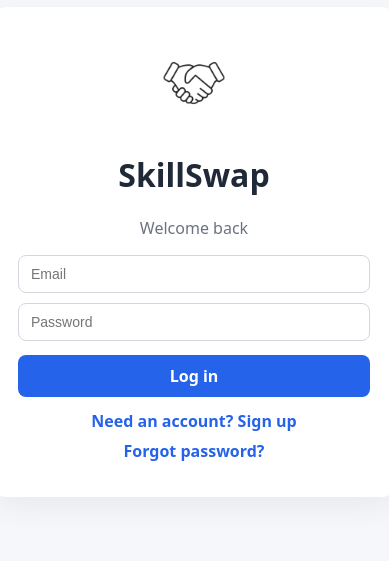
it: SkillSwap behavior tests › shows login validation messages
Click the button "Log in": click(194, 376) [18,355,370,397]
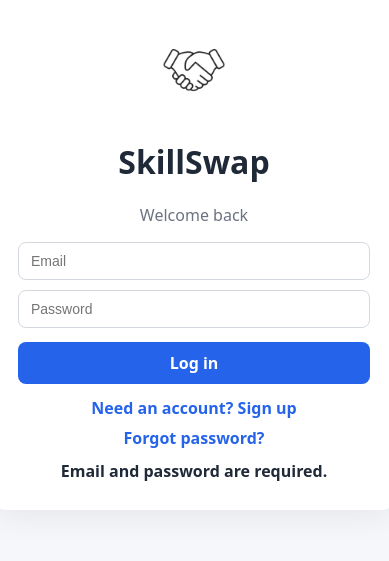
Expected: the text "Email and password are required." is shown, [61,460,327,482]
Click the button "Need an account? Sign up": click(194, 408) [18,396,370,420]
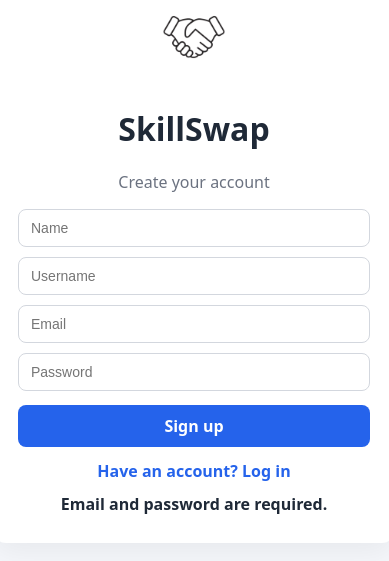
In the field named "email": (194, 324) [18,305,370,343], type "test@example.com"
In the password field named "password": (194, 372) [18,353,370,391], type "password123"
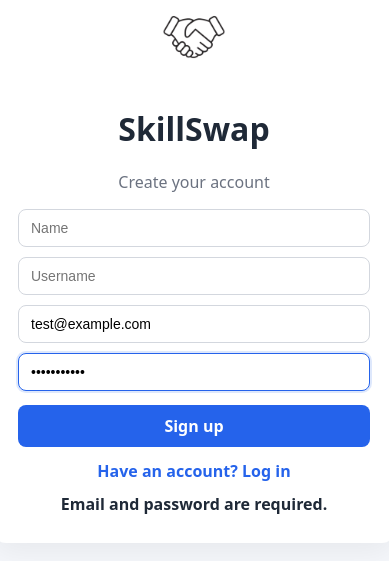
Expected: the button "Sign up" is shown
Click the button "Sign up": click(194, 426) [18,405,370,447]
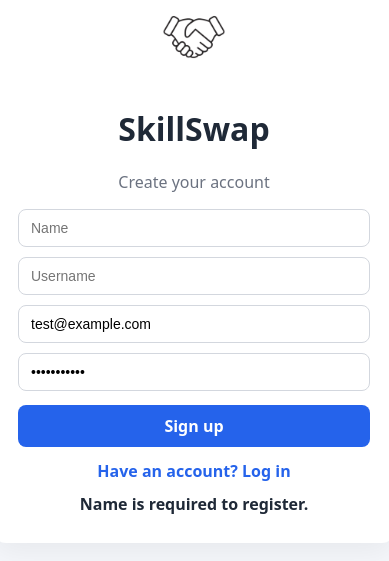
Expected: the text "Name is required to register." is shown, [80,493,308,515]
In the field named "name": (194, 228) [18,209,370,247], type "Test User"
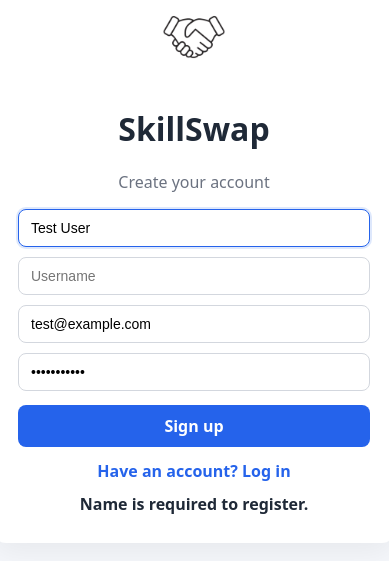
Expected: the button "Sign up" is shown
Click the button "Sign up": click(194, 426) [18,405,370,447]
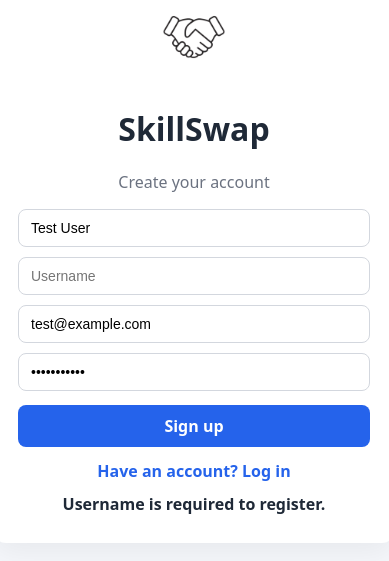
Expected: the text "Username is required to register." is shown, [63,493,326,515]
